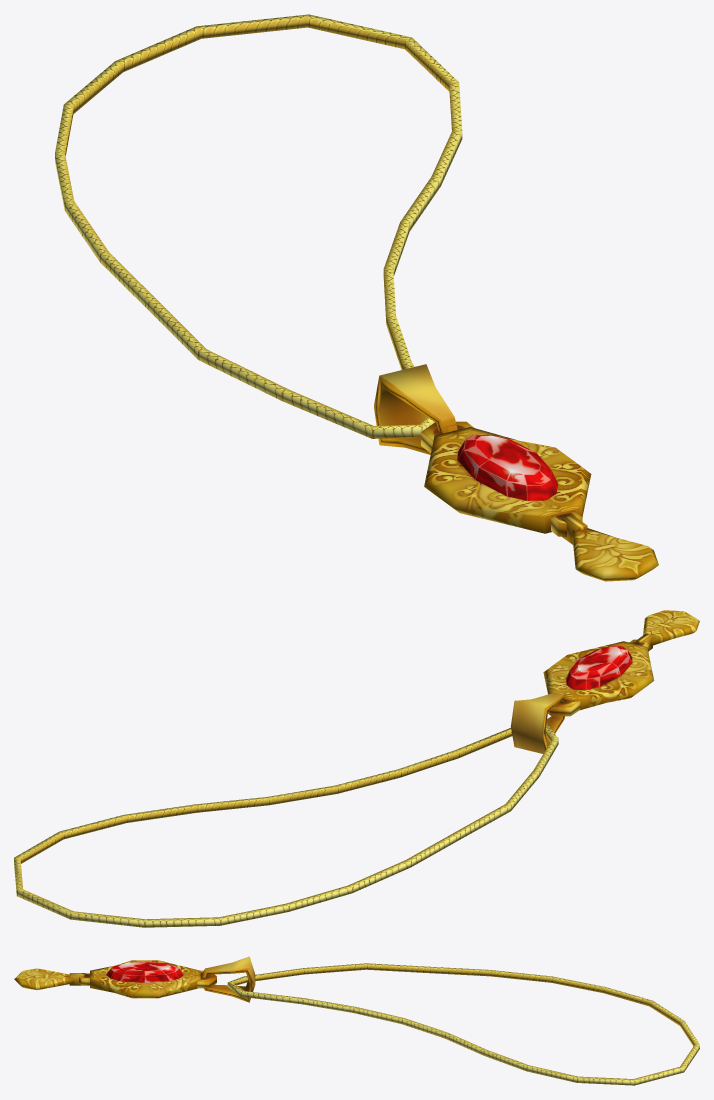
The model's file is pendant_08.fbx.
3 views of the same model, one above another, from view 1: azimuth 30°, elevation 25°; view 2: azimuth 150°, elevation 25°; view 3: azimuth 270°, elevation 25° (orthographic). The views are drawn at different scales.
Visible parts, largest first — view 1: pendant_08; view 2: pendant_08; view 3: pendant_08.
Boxes of the visible parts, <box> form: pendant_08: <box>55,14,658,581</box>; pendant_08: <box>14,610,699,927</box>; pendant_08: <box>14,956,699,1085</box>.
Bounding box in the file's own units: 14.23 × 1.97 × 35.03.
